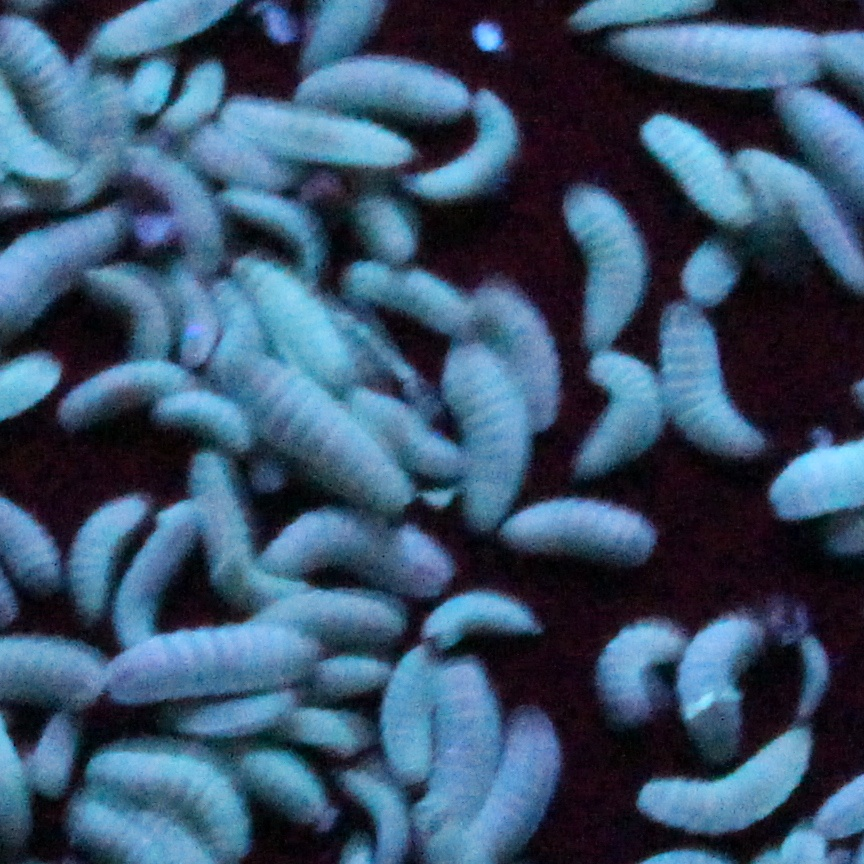larve: (656, 307, 771, 469), (539, 174, 643, 352), (76, 742, 262, 835), (101, 157, 240, 271), (615, 22, 820, 89), (580, 600, 683, 729), (273, 517, 448, 592), (276, 381, 394, 492), (176, 457, 265, 603), (435, 350, 522, 498), (233, 278, 348, 385), (635, 111, 746, 218), (489, 708, 565, 852), (69, 349, 205, 428), (560, 355, 650, 472), (109, 642, 318, 692), (494, 504, 661, 563), (635, 759, 787, 818), (240, 192, 340, 278), (297, 64, 462, 116), (468, 87, 525, 202), (694, 628, 758, 728), (388, 648, 434, 780), (251, 739, 330, 814), (683, 226, 757, 306), (23, 638, 105, 710), (74, 501, 119, 629), (416, 596, 539, 641), (219, 120, 393, 151), (17, 483, 61, 594), (23, 37, 73, 131), (179, 55, 223, 119), (129, 50, 169, 119)
